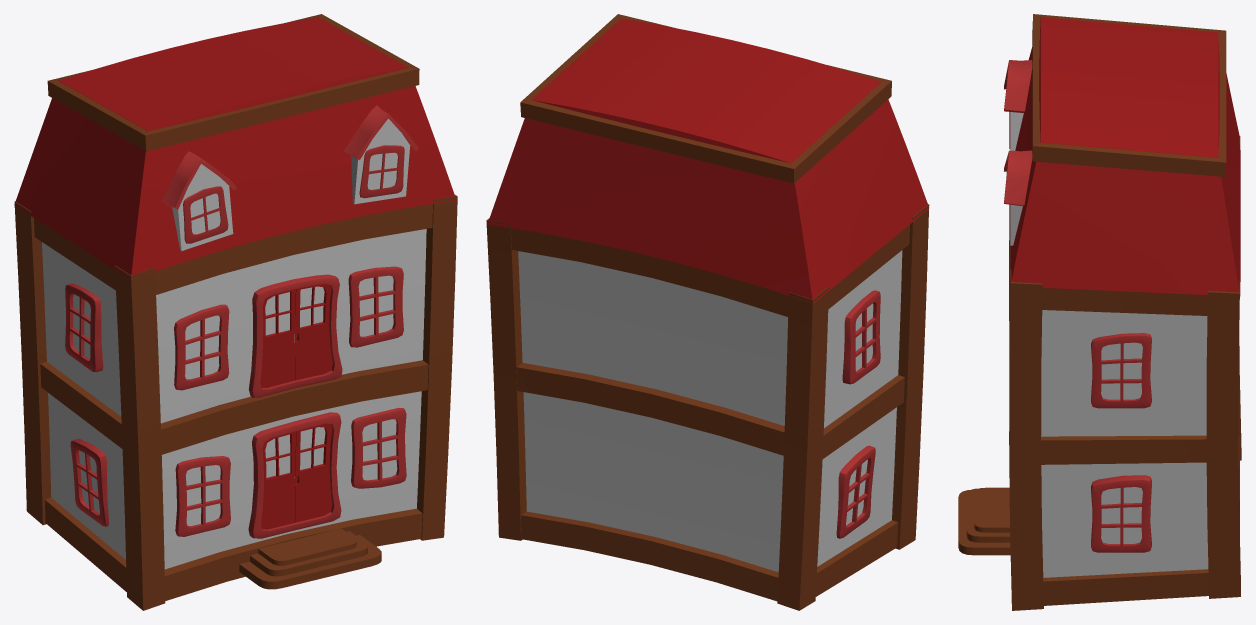
The model's file is Doll House.FBX.
3 renders of one model, left to right at view 1: azimuth 30°, elevation 25°; view 2: azimuth 150°, elevation 25°; view 3: azimuth 270°, elevation 25°, orthographic.
Visible parts, largest first — view 1: Box078; view 2: Box078; view 3: Box078.
Boxes of the visible parts, x1,y1,x2,y2 form: Box078: [14, 14, 457, 610]; Box078: [486, 14, 929, 610]; Box078: [958, 14, 1241, 610].
Bounding box in the file's own units: 28.72 × 39.43 × 21.82.
